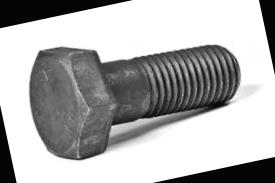hexagonal: (18, 36, 125, 167)
